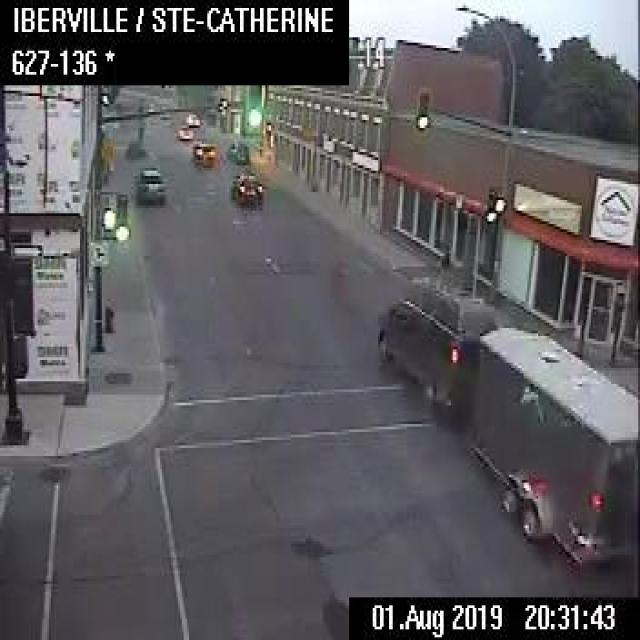pedestrian: (434, 242, 450, 287)
vehicle: (376, 282, 638, 569), (132, 166, 164, 206), (228, 171, 264, 205), (191, 137, 216, 166), (225, 138, 249, 162), (175, 121, 193, 138), (184, 111, 198, 125)
